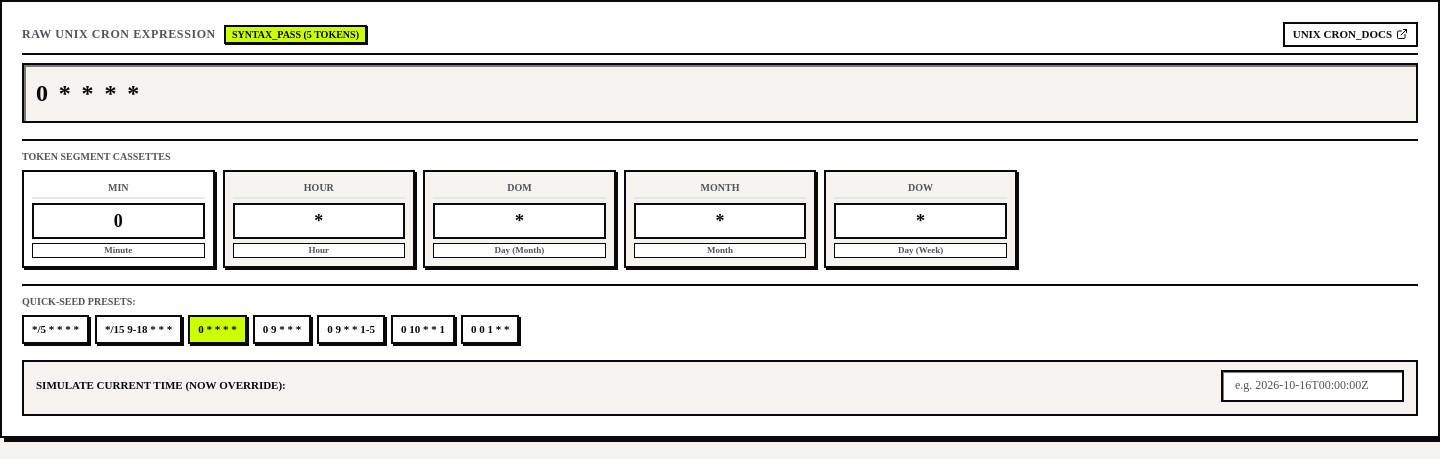
Test case: Task 10: CronInput Component › editing field-minute to */5 updates raw input to */5 * * * *
This screenshot has width=1440, height=459.
Replace the text in the field with test id "field-minute" with "*/5": point(118, 220) [32, 202, 205, 238]
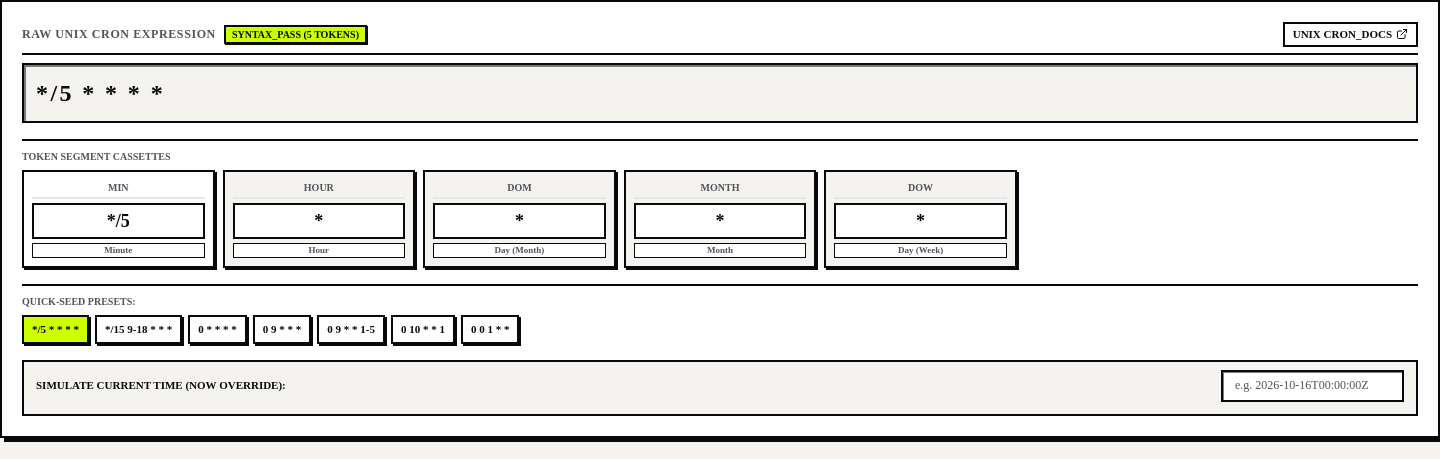
expect the field with test id "cron-input" holds "*/5 * * * *": met, box [22, 62, 1418, 122]
